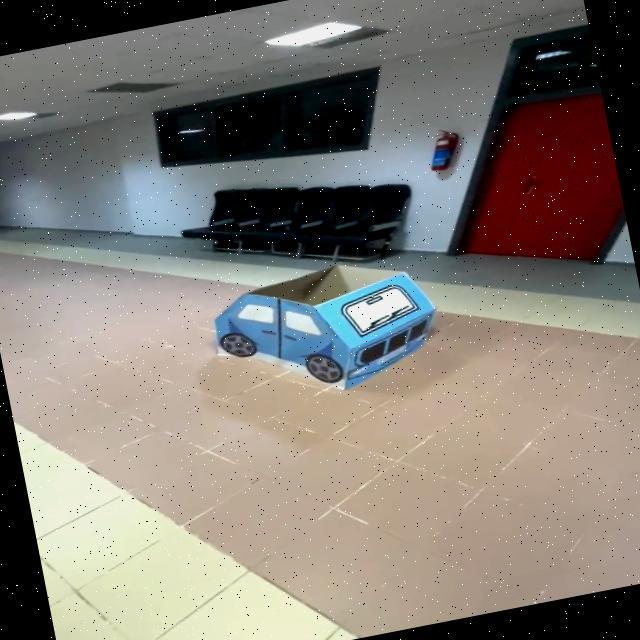blue_car: (173, 237, 462, 423)
